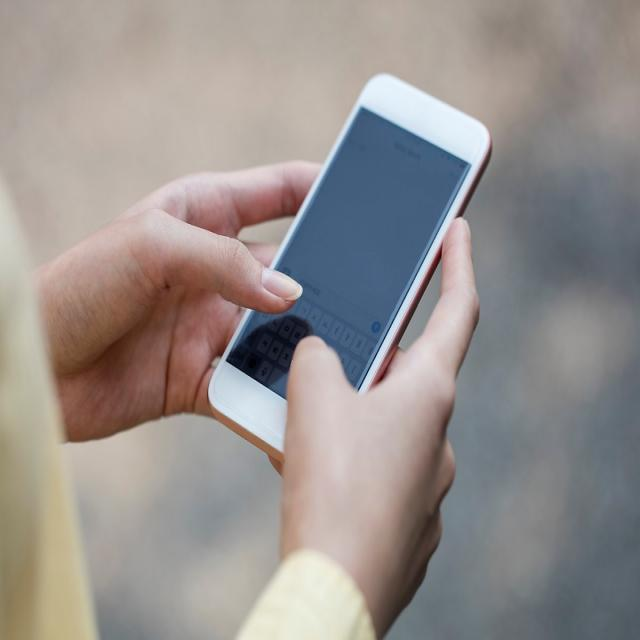Phone: (204, 70, 496, 474)
